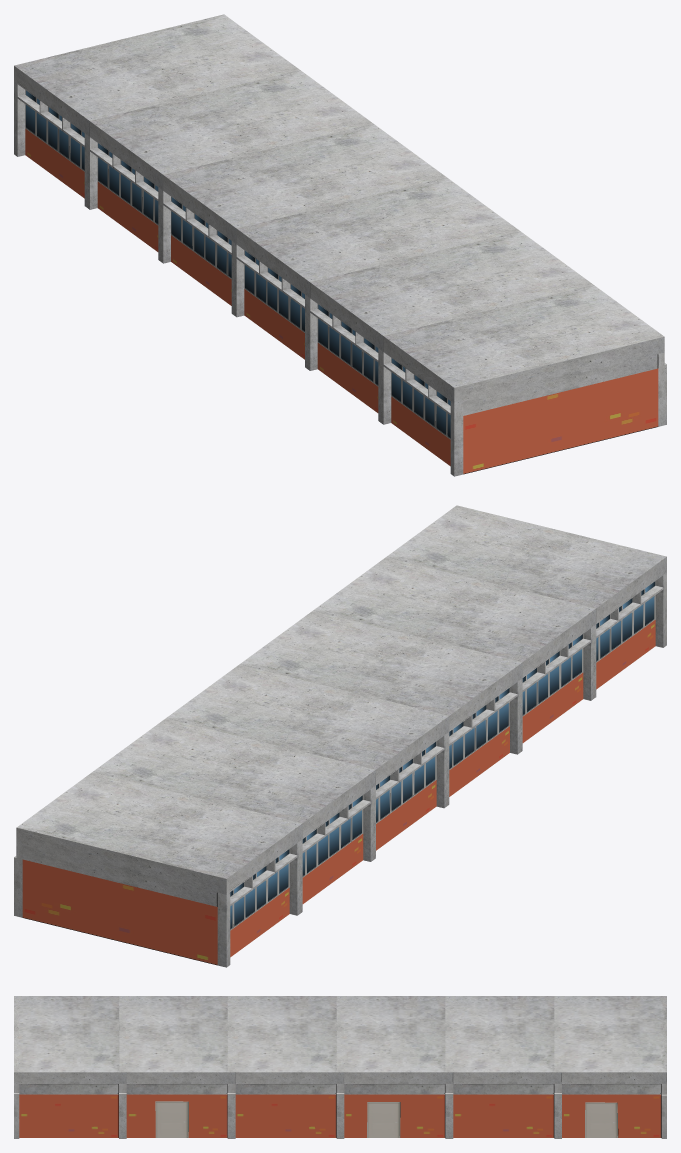
The model's file is edif-15.fbx.
3 renders of one model, top to bottom at view 1: azimuth 30°, elevation 25°; view 2: azimuth 150°, elevation 25°; view 3: azimuth 270°, elevation 25°, orthographic. The views are drawn at different scales.
Parts seen in each view (by area): view 1: polySurface165; view 2: polySurface165; view 3: polySurface165.
Part boxes in pixels (bbox=[...]): polySurface165: bbox=[14, 14, 666, 476]; polySurface165: bbox=[14, 505, 666, 967]; polySurface165: bbox=[14, 996, 666, 1138].
Size of the model in its own units: 125 by 49.81 by 448.
1 material, 1 textured.
